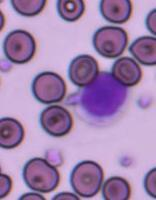L: (68, 70, 130, 127)
